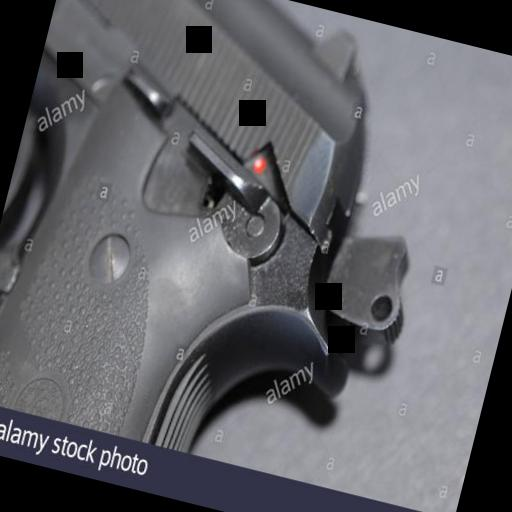Handgun: (0, 0, 469, 495)
